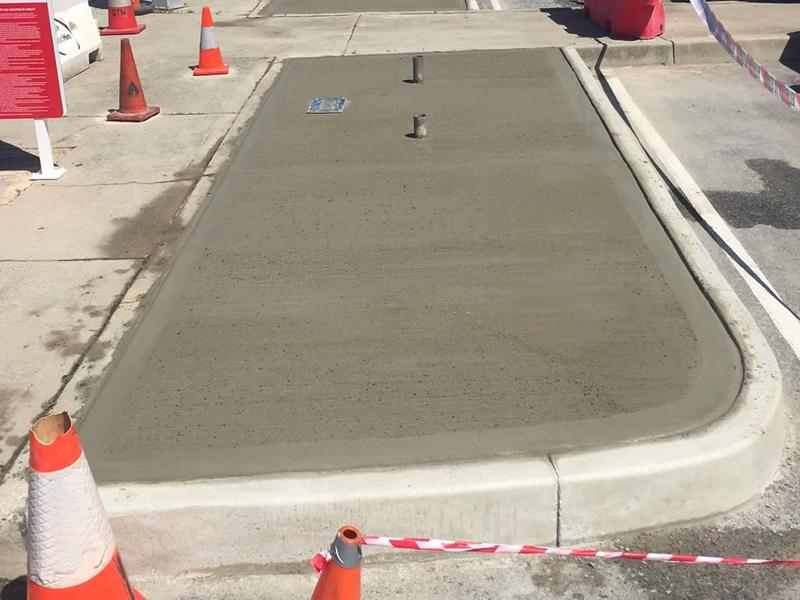Cone: (103, 38, 162, 122)
